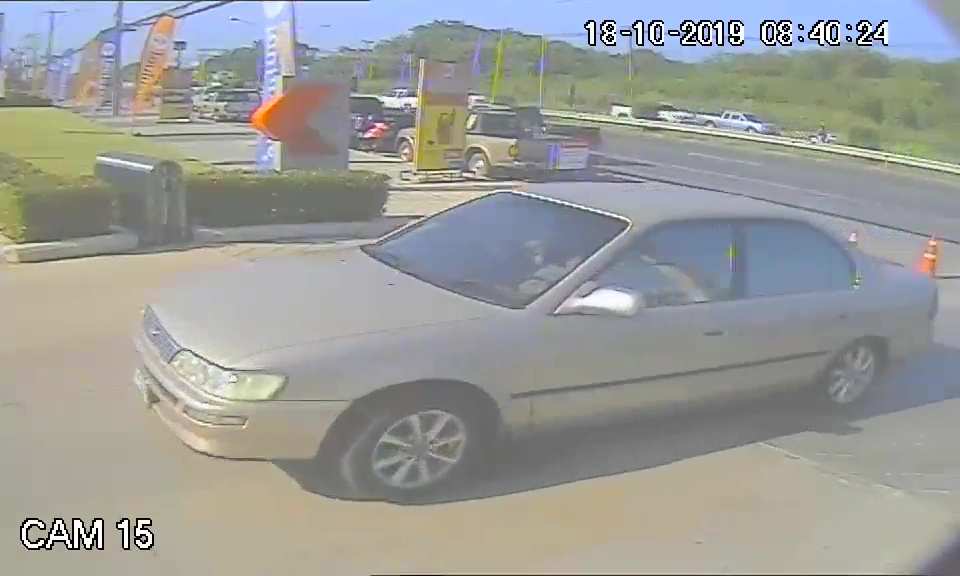sedan: (131, 174, 940, 499)
